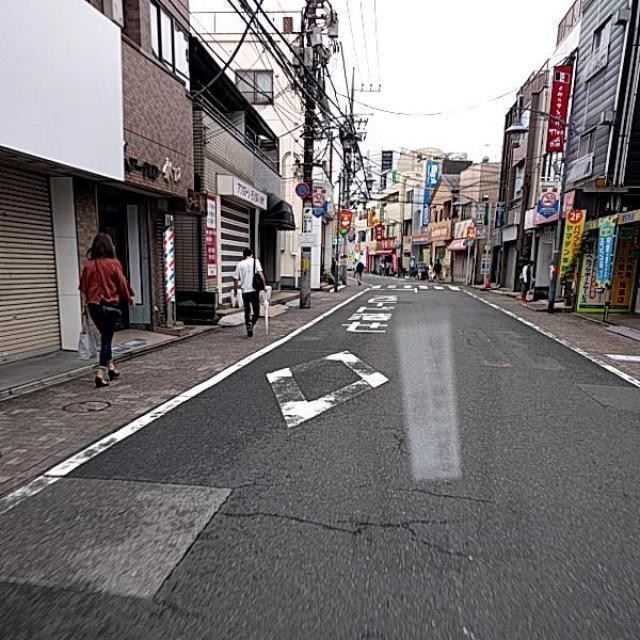Sambungan: (0, 476, 232, 597)
